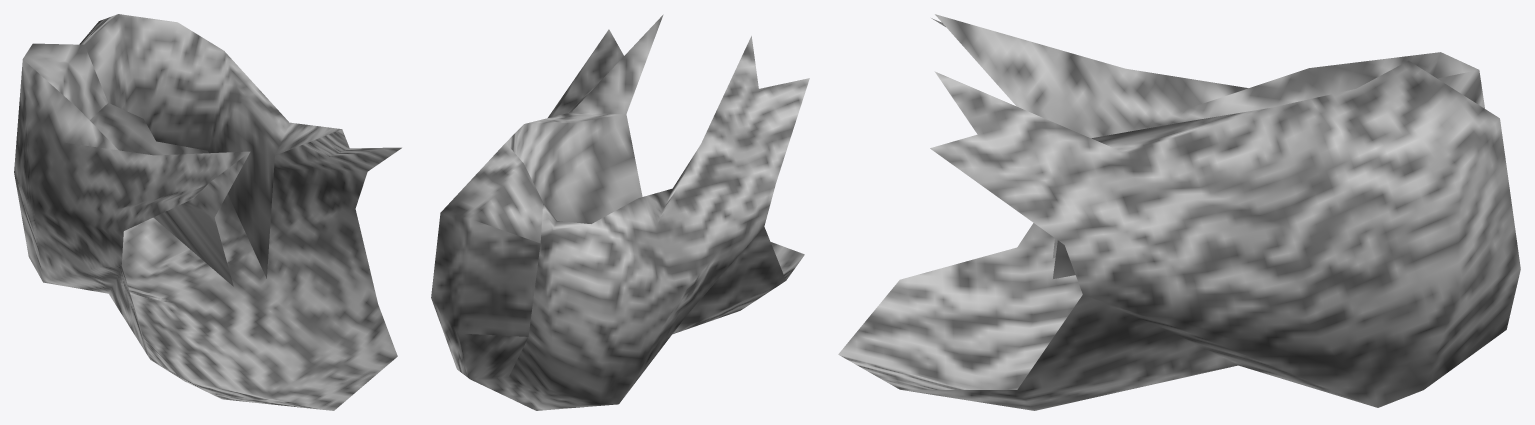
Rendered from Wig_Bob_Hair_FabianCurly.fbx.
3 views of the same model, side by side, from view 1: azimuth 30°, elevation 25°; view 2: azimuth 150°, elevation 25°; view 3: azimuth 270°, elevation 25° (orthographic). The views are drawn at different scales.
Visible parts, largest first — view 1: BoxOfJars003; view 2: BoxOfJars003; view 3: BoxOfJars003.
Boxes of the visible parts, <box> form: BoxOfJars003: <box>14,14,401,410</box>; BoxOfJars003: <box>431,14,809,410</box>; BoxOfJars003: <box>838,14,1520,410</box>.
Bounding box in the file's own units: 12.78 × 13.77 × 24.16.
